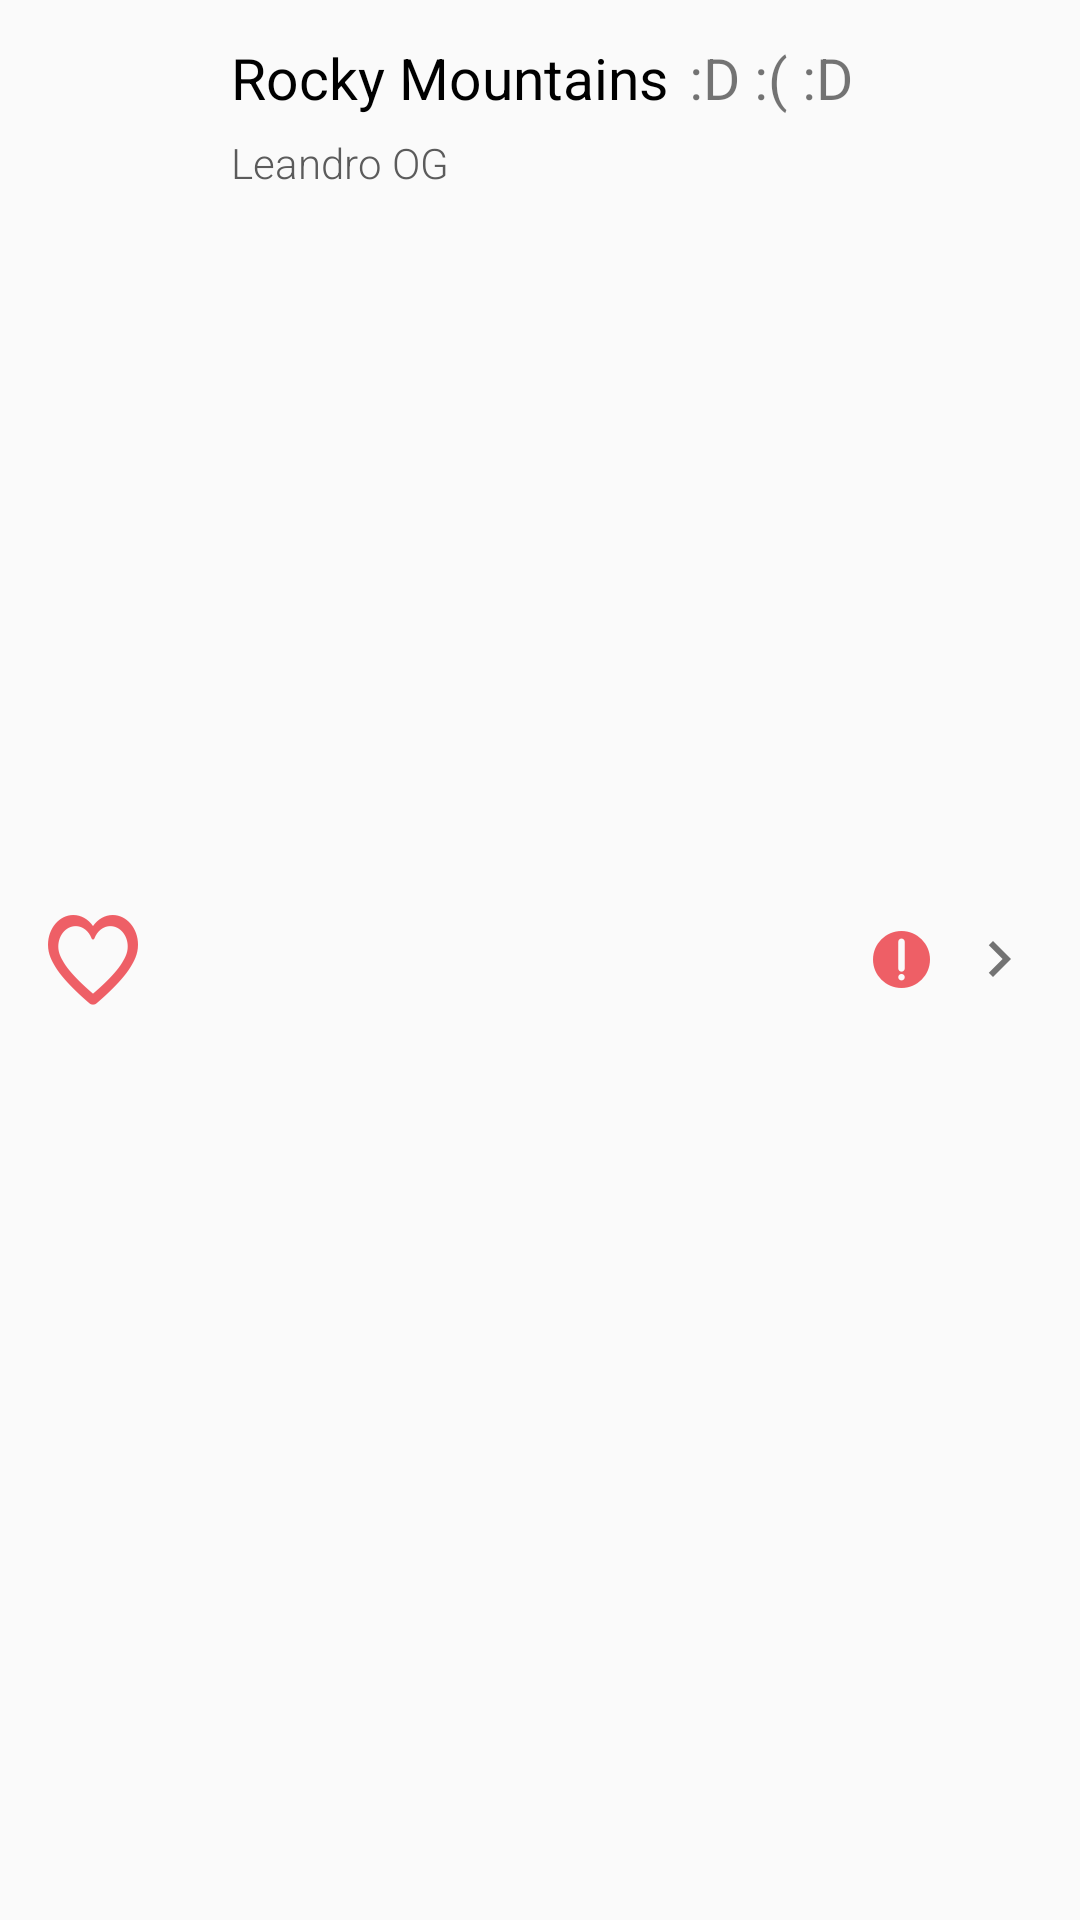

Icon bounding boxes for this 1080*1920 phone screenshot, format detection(x1, y1, x2, y2):
alert: detection(873, 931, 930, 988)
arrow forward: detection(989, 941, 1011, 977)
like: detection(48, 915, 138, 1005)
